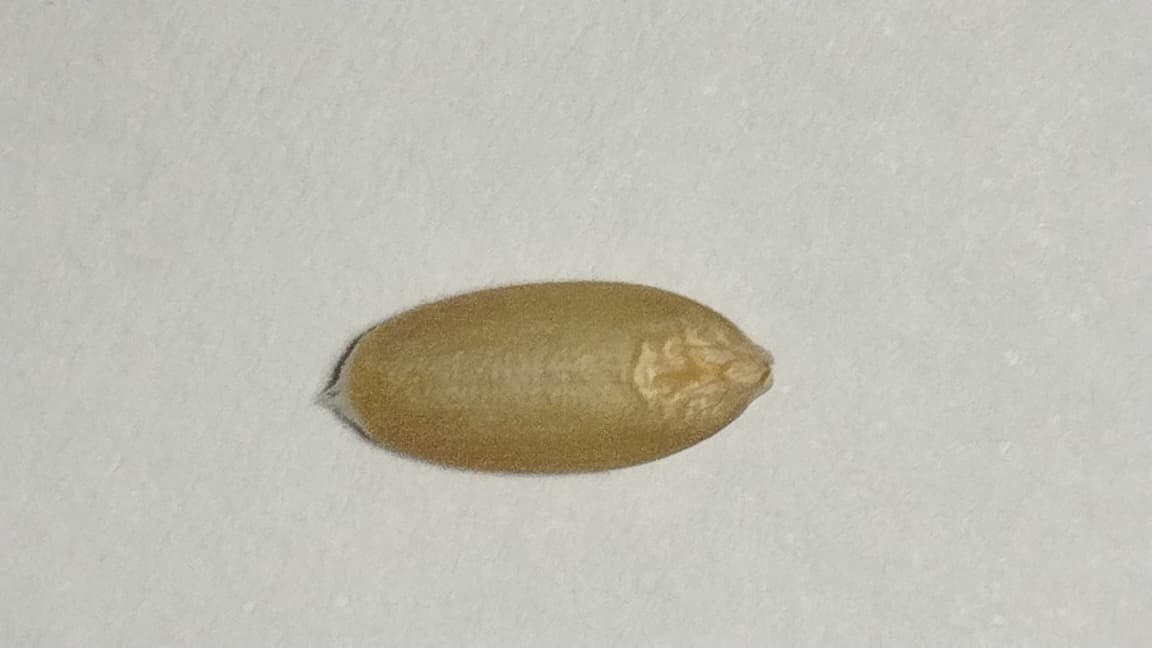healthy: (324, 279, 772, 474)
